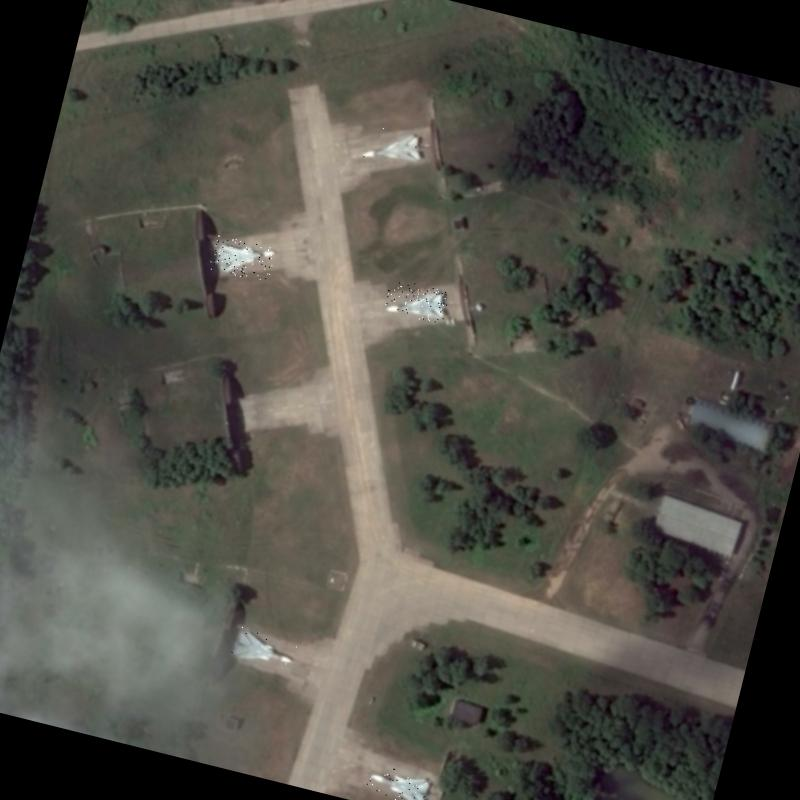A20: (208, 234, 276, 284), (359, 121, 426, 170), (382, 277, 450, 325), (228, 624, 298, 670), (363, 762, 431, 800)
